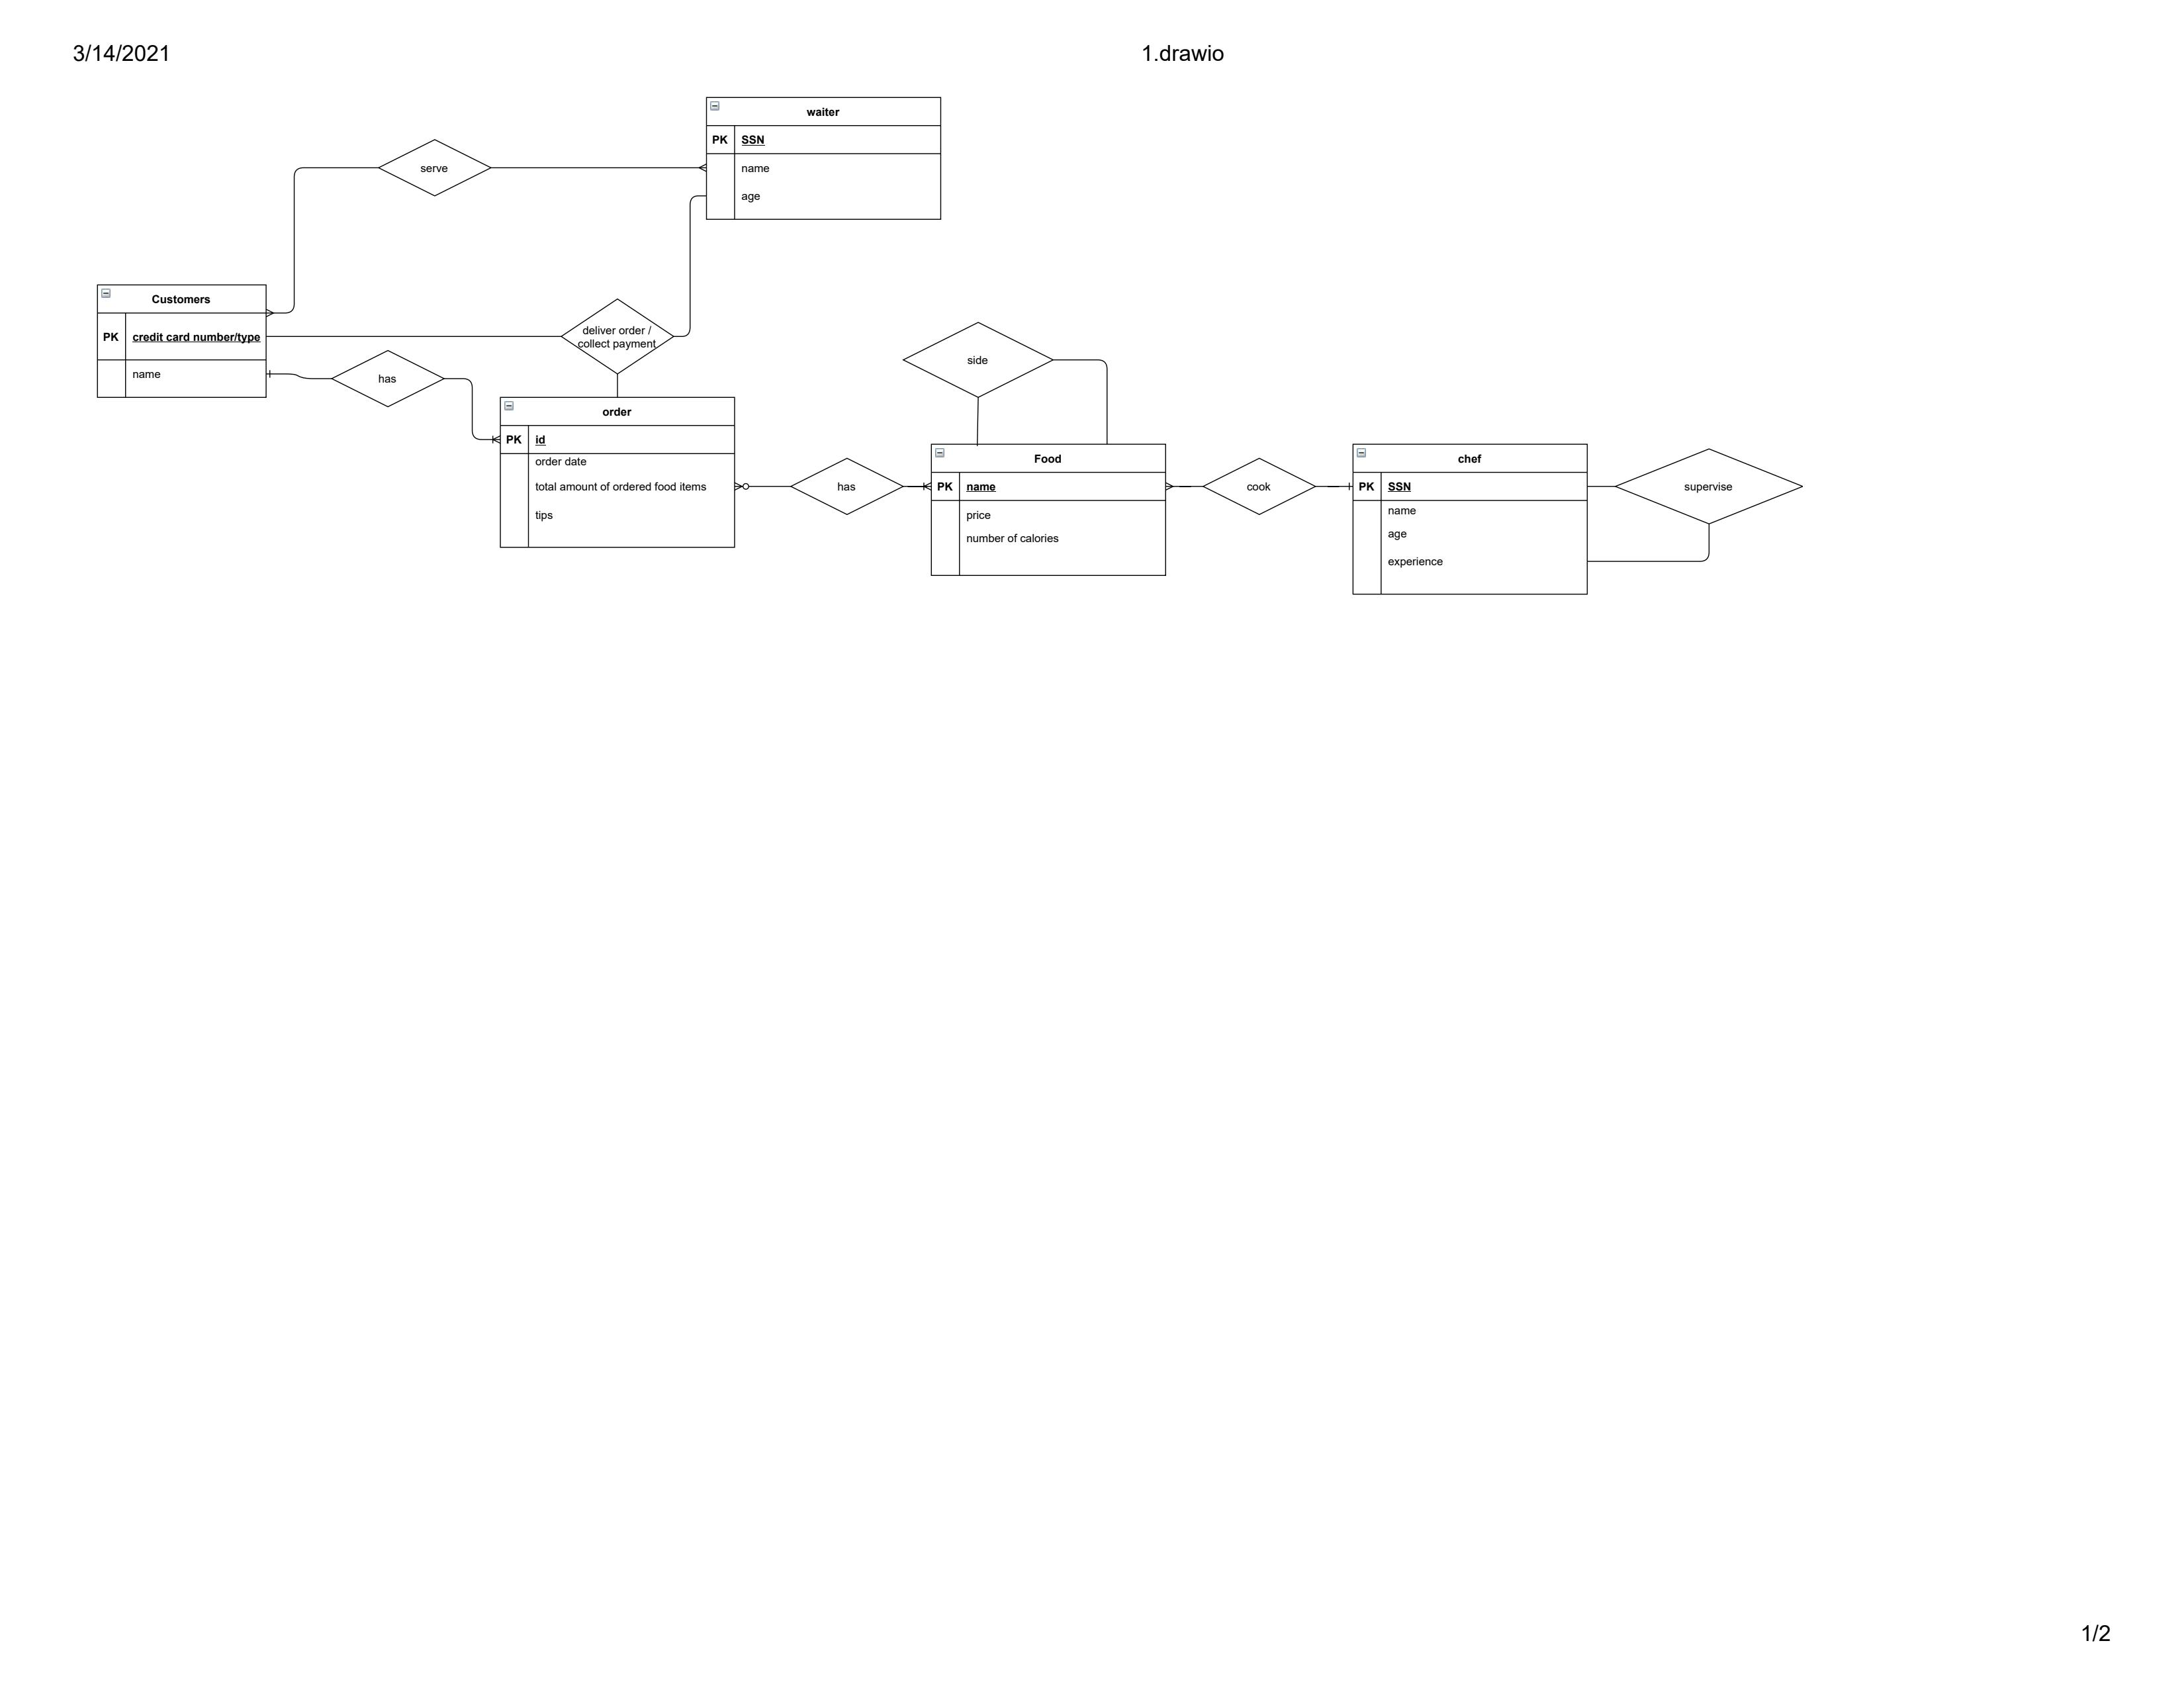Entity: (496, 392, 737, 553), (1351, 442, 1590, 598), (929, 445, 1168, 580), (704, 94, 941, 223), (94, 282, 271, 401)
Relationship: (1618, 449, 1803, 525), (902, 321, 1051, 395), (564, 300, 674, 376), (792, 454, 904, 518), (333, 349, 445, 406), (379, 140, 491, 197), (1204, 457, 1314, 514)
